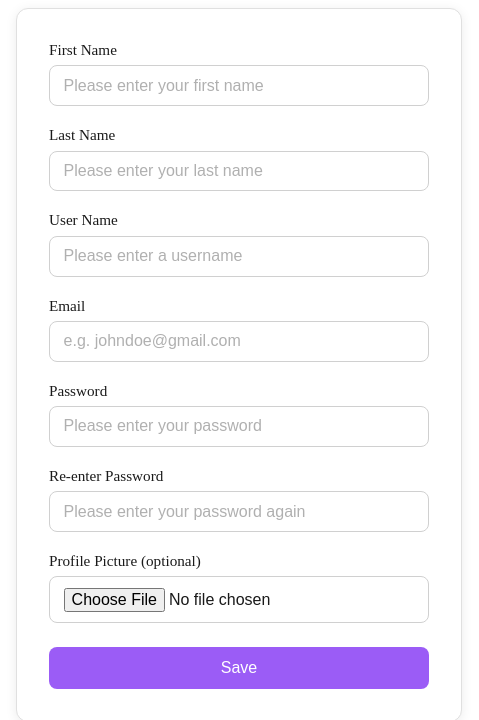
Test case: SignUpForm › shows error when first name contains invalid characters
Type "Bob123" into the field labelled "First Name" at x=239, y=86, box [49,65,429,106]
Type "Bobson" into the field labelled "Last Name" at x=239, y=171, box [49,151,429,191]
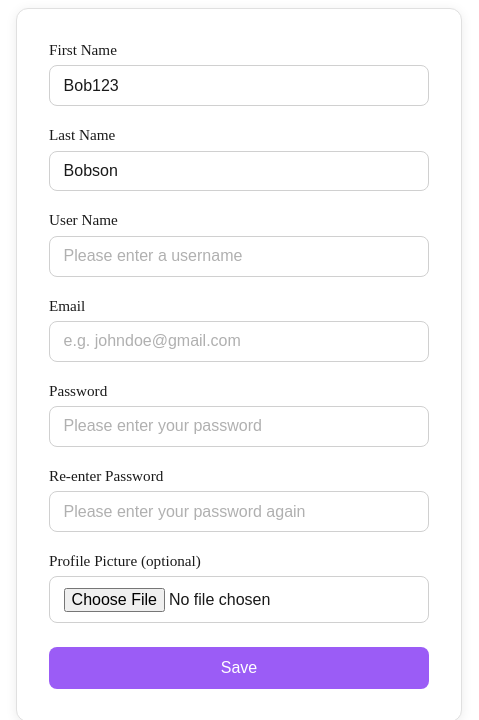
Type "BBobson" into the field labelled "User Name" at x=239, y=256, box [49,236,429,276]
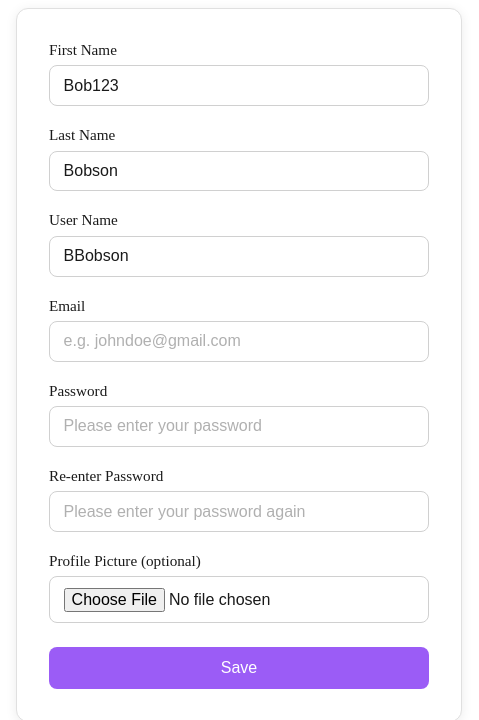
Type "bob@email.com" into the field labelled "Email" at x=239, y=341, box [49,321,429,362]
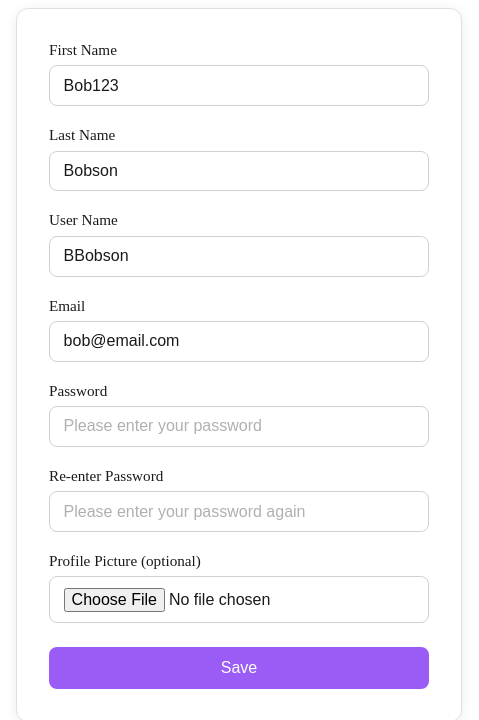
Type "Password1!" into the password field labelled "Password" at x=239, y=426, box [49,406,429,447]
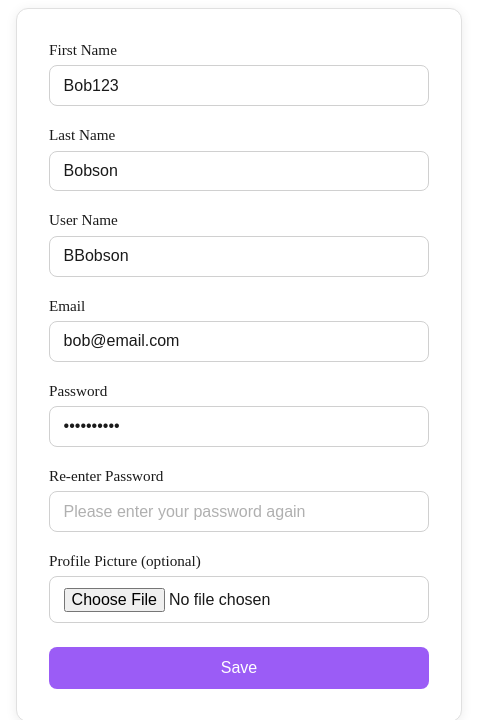
Type "Password1!" into the password field labelled "Re-enter Password" at x=239, y=512, box [49,491,429,532]
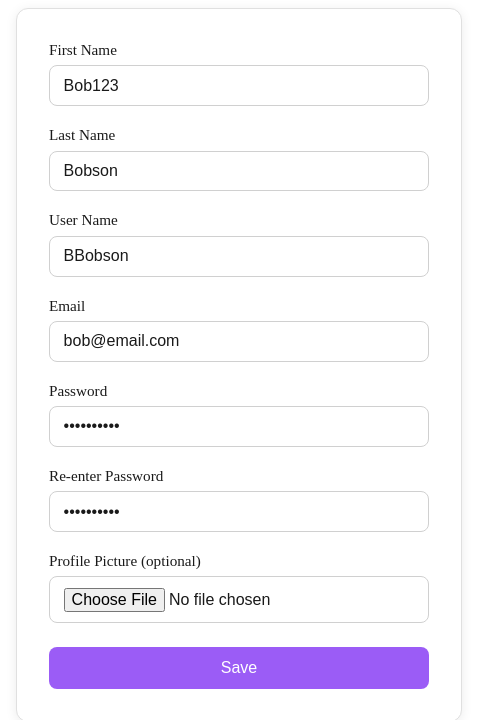
Click the button "Save" at x=239, y=668, box [49,647,429,689]
(page scrolled)
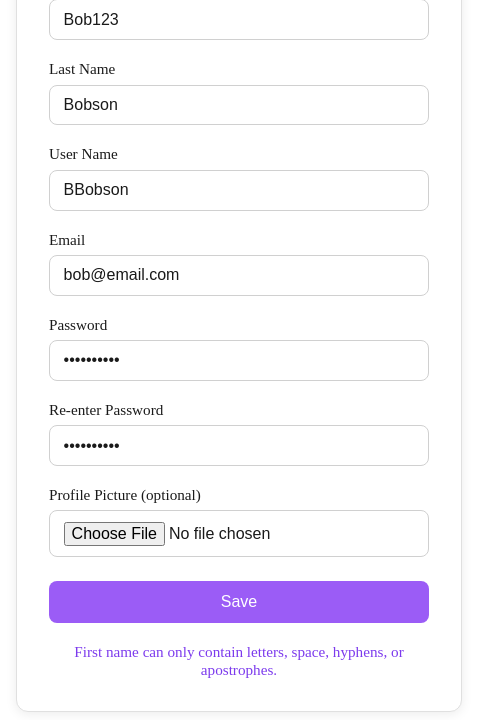
Result: the text "First name can only contain" is shown at [74,643,404,678]
